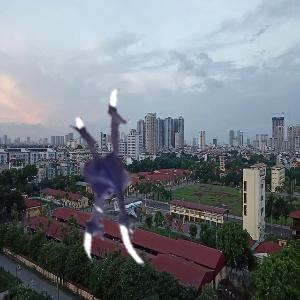drone: (38, 93, 214, 269)
